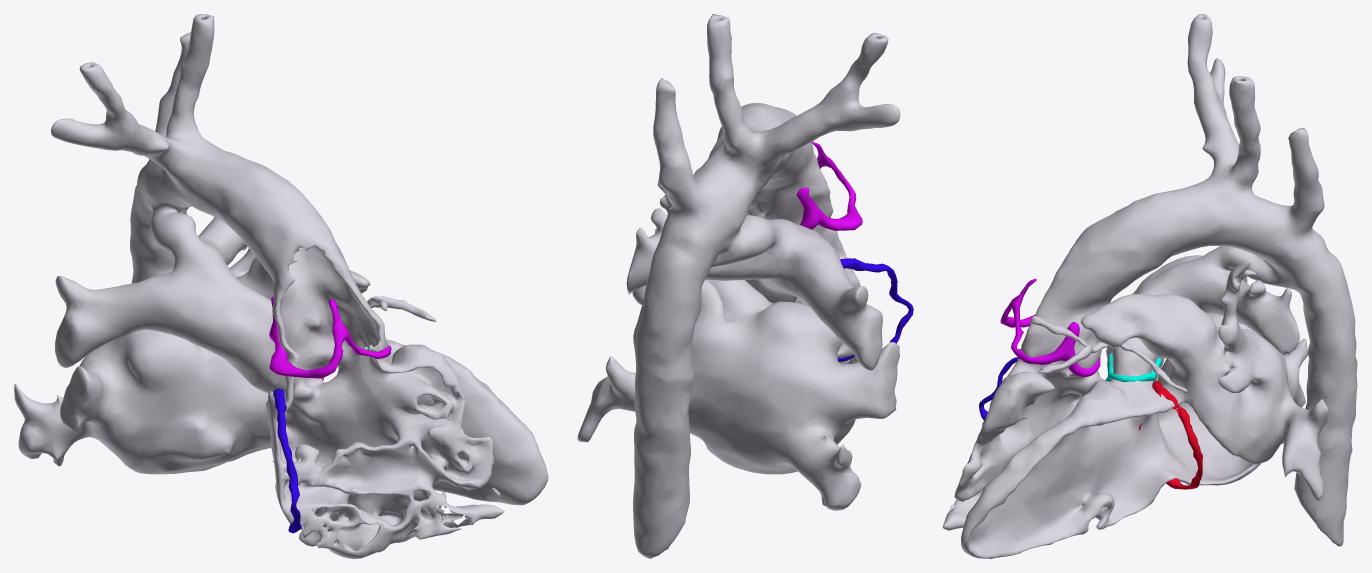
Rendered from TGA, VSD, LVOTO.gltf.
3 views of the same model, side by side, from view 1: azimuth 30°, elevation 25°; view 2: azimuth 150°, elevation 25°; view 3: azimuth 270°, elevation 25° (orthographic). The views are drawn at different scales.
Visible parts, largest first — view 1: heart, aov, tv; view 2: heart, aov, tv; view 3: heart, aov, mv, pv.
Boxes of the visible parts, x1,y1,x2,y2 form: heart: (14,14,548,558); aov: (269,296,391,378); tv: (273,388,301,533); heart: (577,14,900,558); aov: (796,142,862,230); tv: (837,258,913,362); heart: (942,14,1357,558); aov: (1000,278,1100,376); mv: (1139,381,1202,489); pv: (1105,353,1161,382).
Bounding box in the file's own units: 0.046 × 0.0598 × 0.049.
